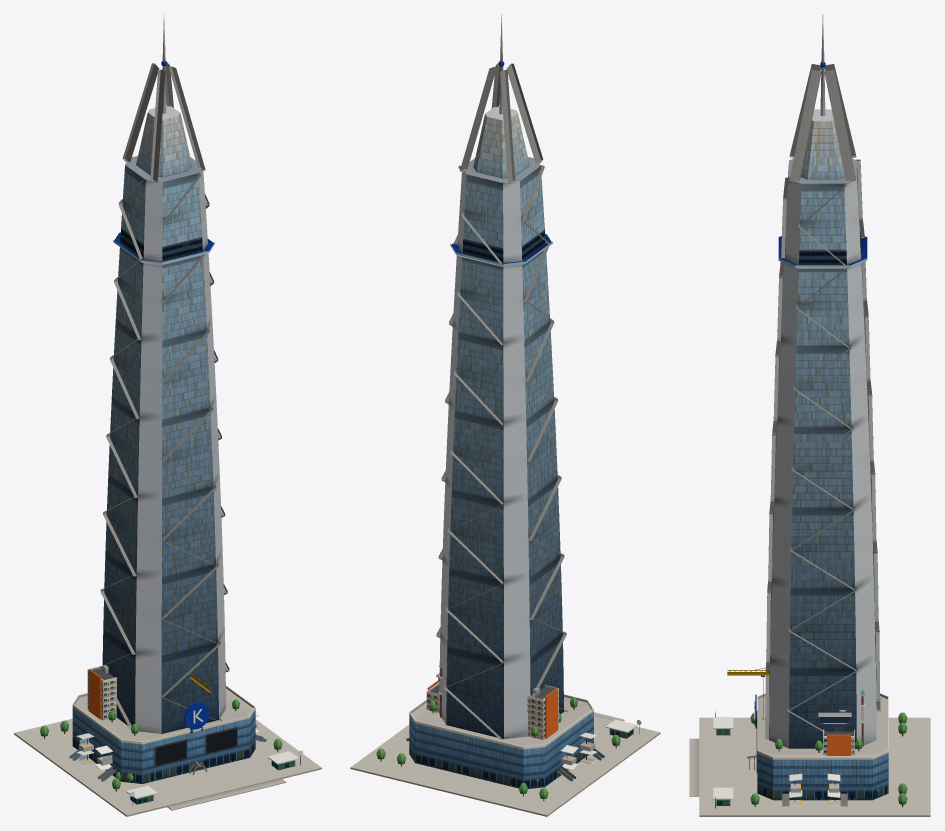
The model's file is landmarks.glb.
3 renders of one model, left to right at view 1: azimuth 30°, elevation 25°; view 2: azimuth 150°, elevation 25°; view 3: azimuth 270°, elevation 25°, orthographic. The views are drawn at different scales.
Parts seen in each view (by area): view 1: k_tower, hq_uhome, station_elevated, k_tower_screen2, k_tower_screen; view 2: k_tower, hq_uhome; view 3: k_tower, hq_uhome, k_tower_canopy.
Boxes of the visible parts, box(x1,y1,x2,y2) form: k_tower: box(14, 14, 321, 816); hq_uhome: box(87, 665, 116, 720); station_elevated: box(69, 723, 266, 781); k_tower_screen2: box(206, 728, 236, 753); k_tower_screen: box(156, 741, 186, 765); k_tower: box(350, 14, 660, 816); hq_uhome: box(426, 680, 558, 739); k_tower: box(689, 14, 930, 816); hq_uhome: box(823, 729, 854, 755); k_tower_canopy: box(713, 717, 733, 799).
Bounding box in the file's own units: 116 × 417 × 121.
Materials: 2 (1 with a texture image).
